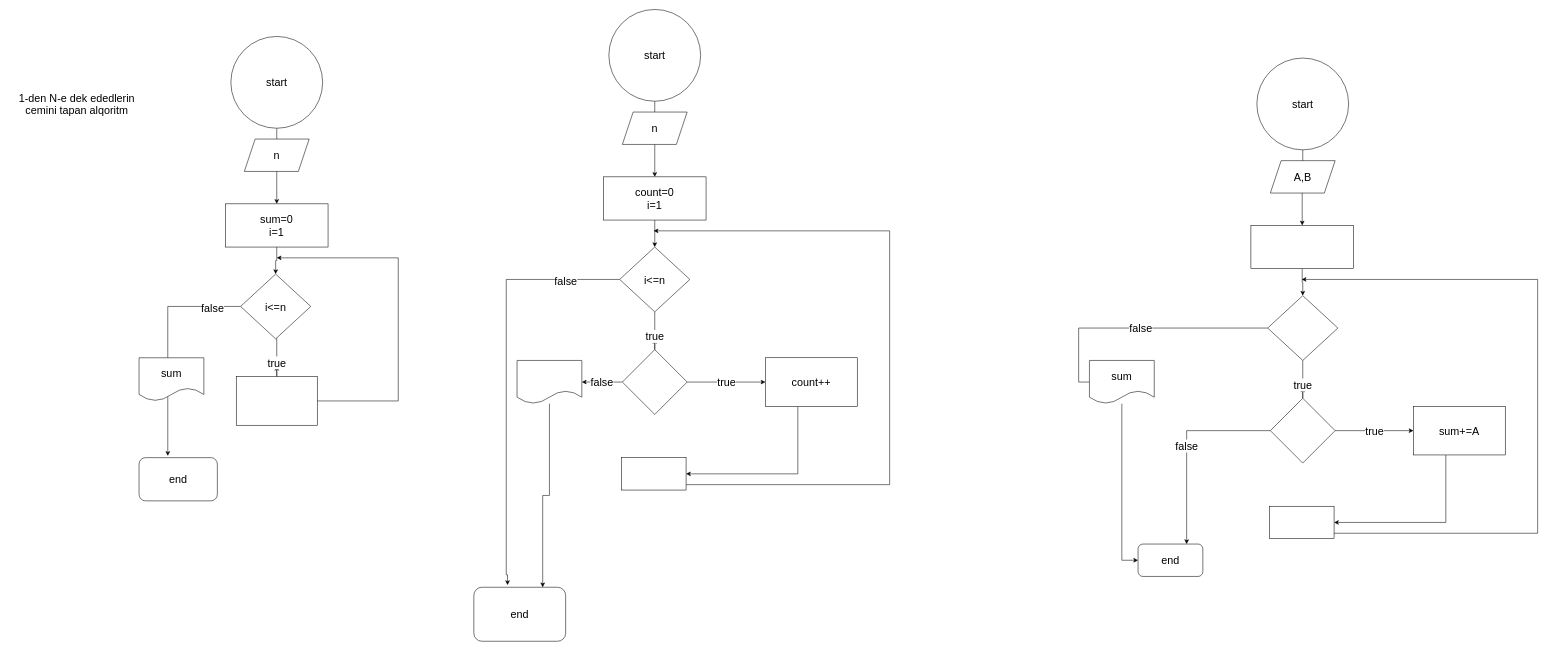
Some shapes in this 1551 by 651 pixel diagram are drawn without their labels. Here are the shapes that lost their labels. From the top down, the centre of each, then its label:
the point at 1302,247: sum=0
the point at 1302,327: A<=B
the point at 276,400: sum+=n i++
the point at 549,382: count
the point at 654,381: i%5==0
the point at 1302,430: a%3==0
the point at 653,473: i++
the point at 1301,522: A++
